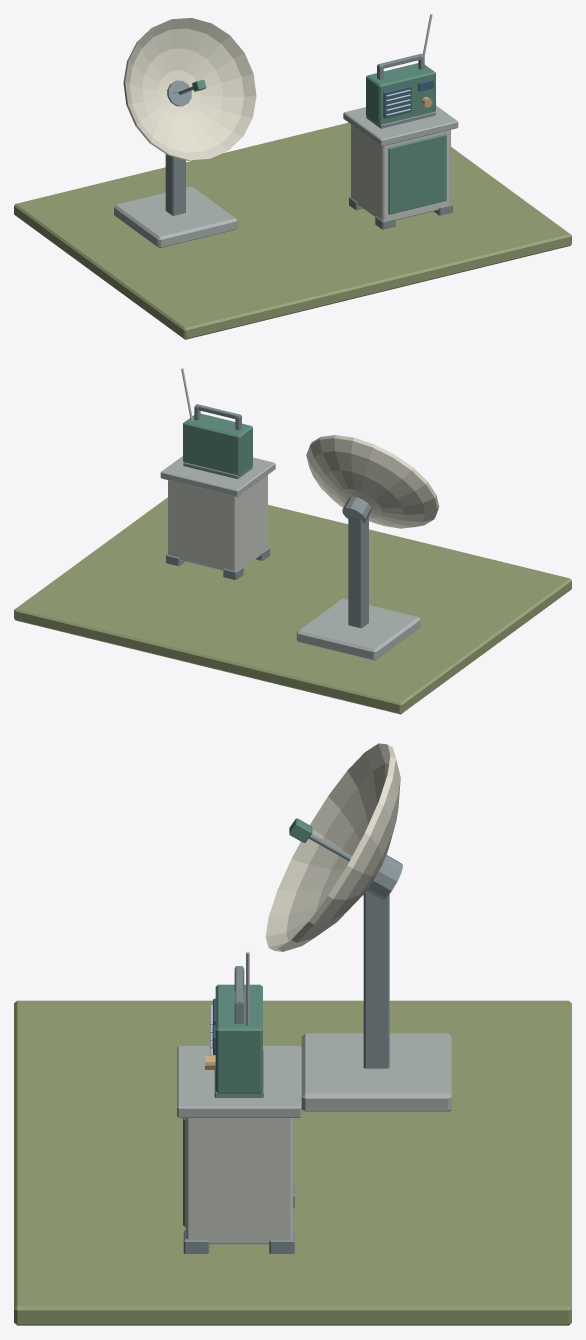
3 views of the same model, one above another, from view 1: azimuth 30°, elevation 25°; view 2: azimuth 150°, elevation 25°; view 3: azimuth 270°, elevation 25° (orthographic). The views are drawn at different scales.
Visible parts, largest first — view 1: communications-station-01; view 2: communications-station-01; view 3: communications-station-01.
Part boxes in pixels (x1,y1,x2,y2): communications-station-01: [14, 14, 571, 339]; communications-station-01: [14, 368, 571, 714]; communications-station-01: [14, 743, 571, 1325].
Bounding box in the file's own units: 3.4 × 1.77 × 2.6.
